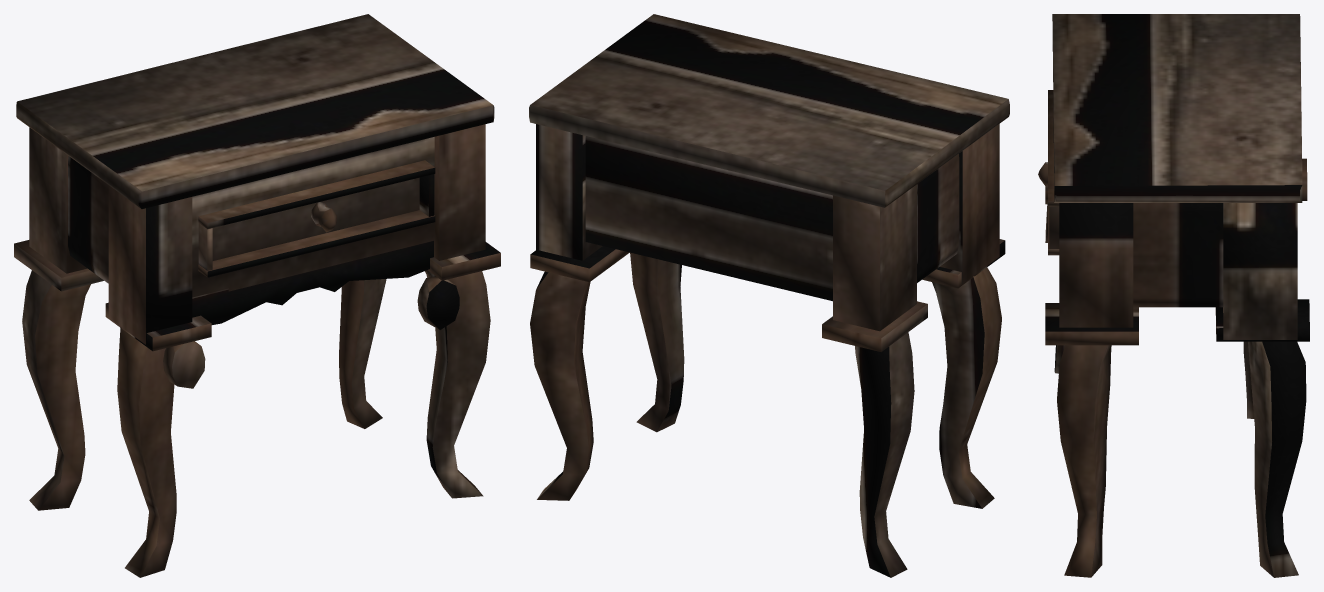
Rendered from NightTableBrkn 1.fbx.
The picture shows the model from 3 angles, left to right: view 1: azimuth 30°, elevation 25°; view 2: azimuth 150°, elevation 25°; view 3: azimuth 270°, elevation 25°; orthographic projection.
Visible parts, largest first — view 1: pasted__pasted__pasted__pasted__pCube5; view 2: pasted__pasted__pasted__pasted__pCube5; view 3: pasted__pasted__pasted__pasted__pCube5.
Part boxes in pixels (x1,y1,x2,y2): pasted__pasted__pasted__pasted__pCube5: (14,14,500,577); pasted__pasted__pasted__pasted__pCube5: (529,14,1009,577); pasted__pasted__pasted__pasted__pCube5: (1038,14,1309,577).
Bounding box in the file's own units: 108 × 111 × 69.97.
